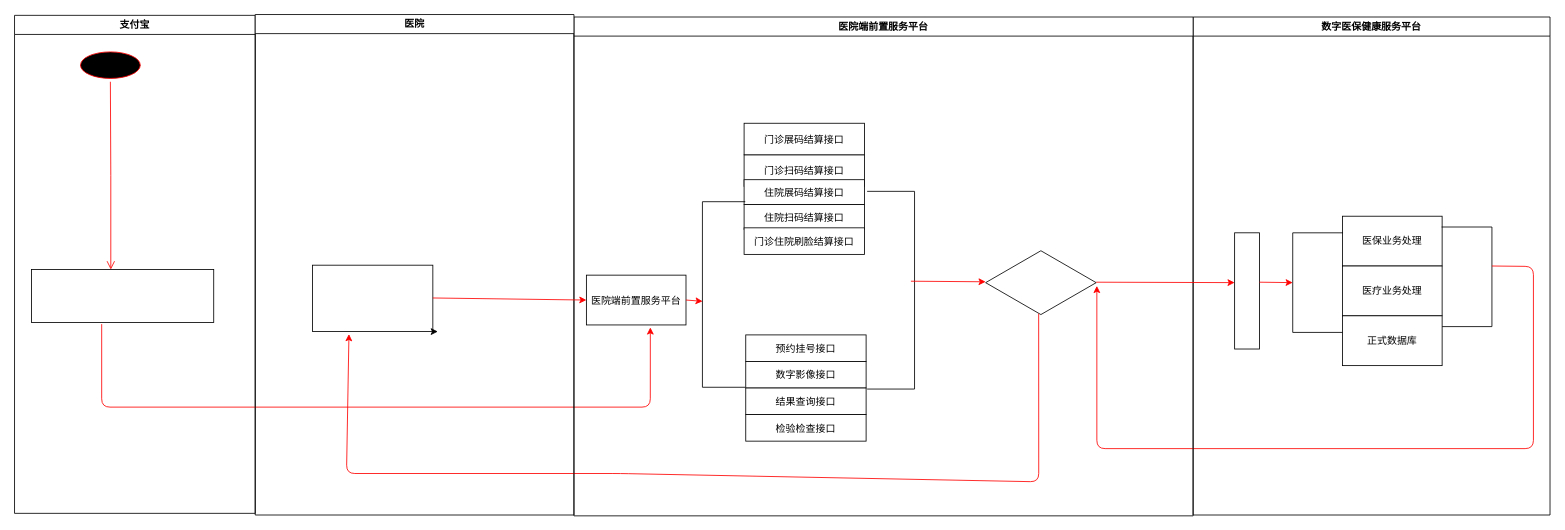
This 1565x530 diagram has some shape labels left out. Each missing label, with the box of its shape:
1.HIs调用医院端前置服务 平台进行医保跟医疗服务 测试: (312, 264, 433, 332)
2.支付宝小程序医疗业务、医保业务办理: (31, 269, 214, 322)
A医院支付宝: (76, 48, 144, 82)
his跟医院端前 置服务平台测试无误: (985, 249, 1096, 316)
数字医保健康服务平台第三方调用: (1234, 232, 1260, 349)
